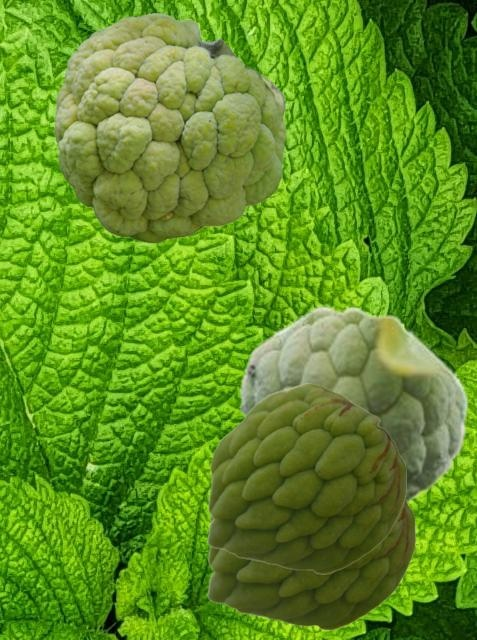atis: (54, 13, 285, 242), (238, 305, 469, 504), (207, 383, 405, 573), (207, 493, 414, 629)
